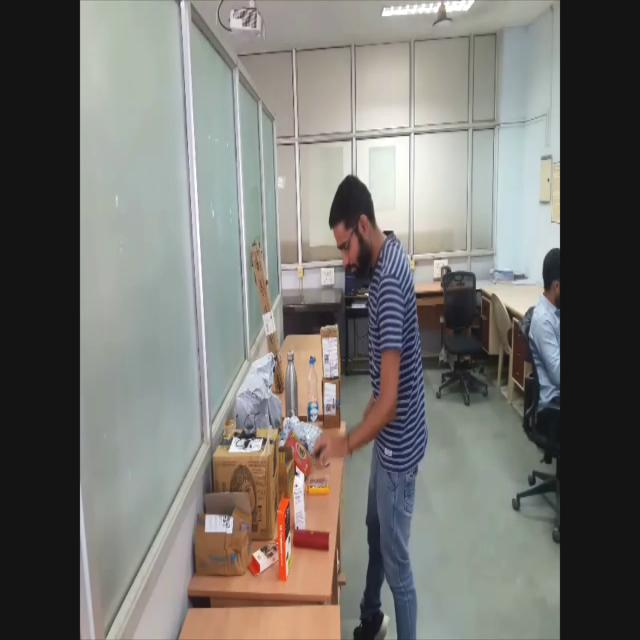normal: (318, 158, 429, 640)
